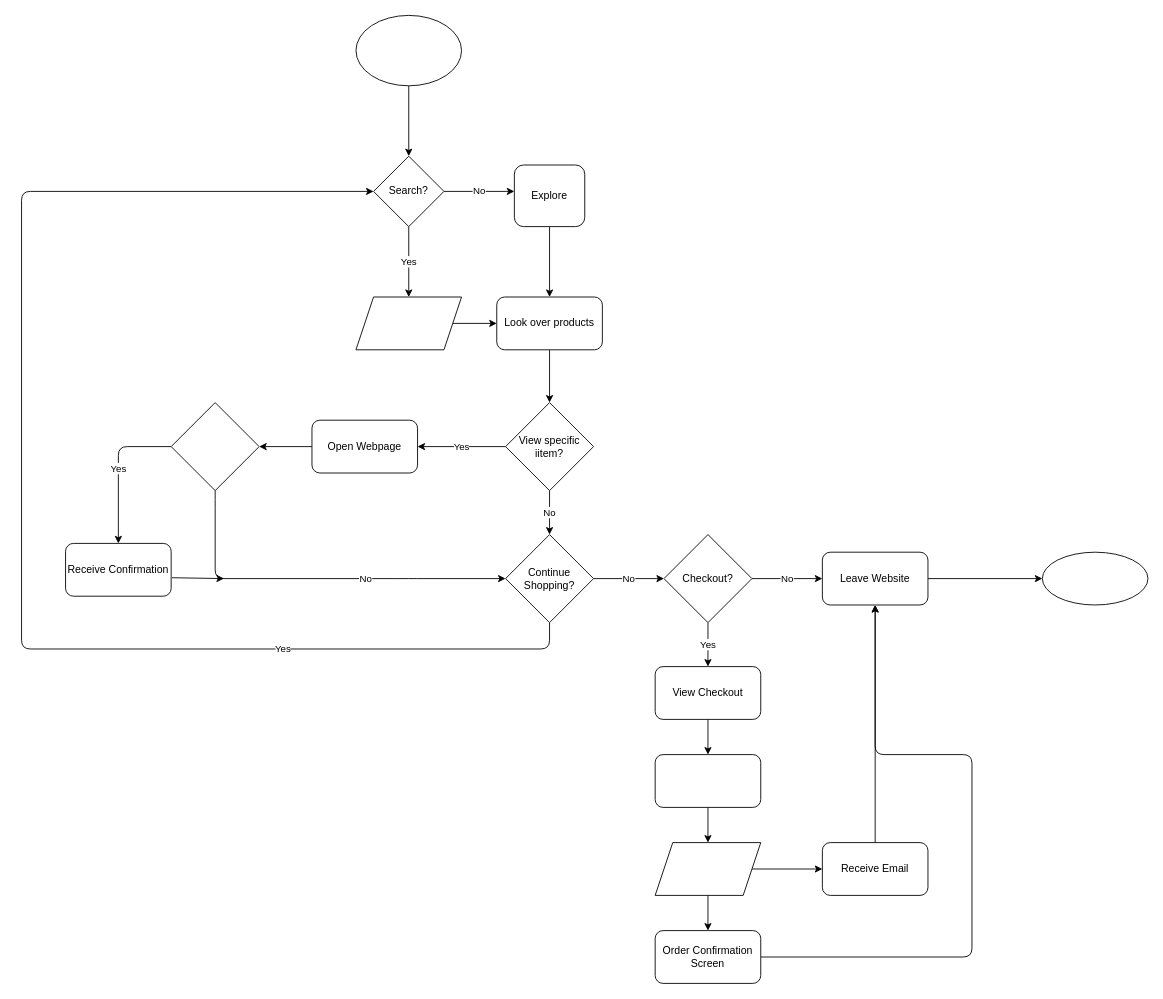
Some shapes in this 1163 by 999 pixel diagram are drawn without their labels. The centre of each missing label's shape, as x and y in pixels:
"Add to Cart?" goes at point 214,446.
"End" goes at point 1094,578.
"Input Payment Information" goes at point 707,868.
"Input Product" goes at point 408,323.
"Start" goes at point 408,50.
"View Payment" goes at point 707,780.
